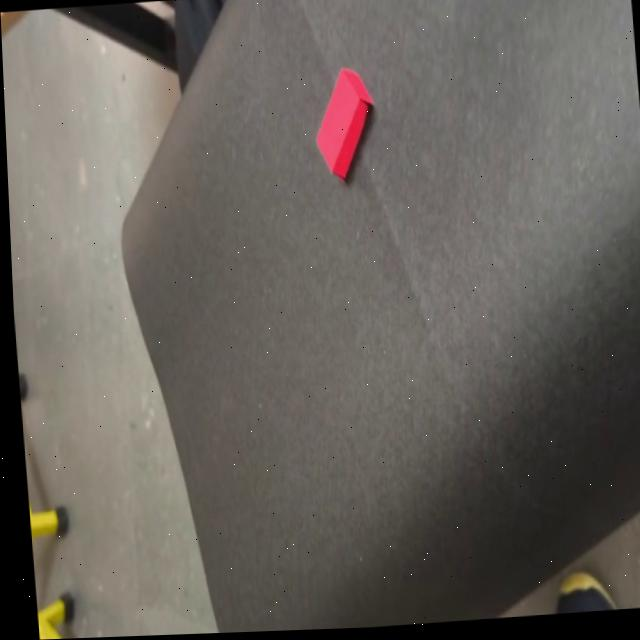red block: (308, 64, 380, 185)
